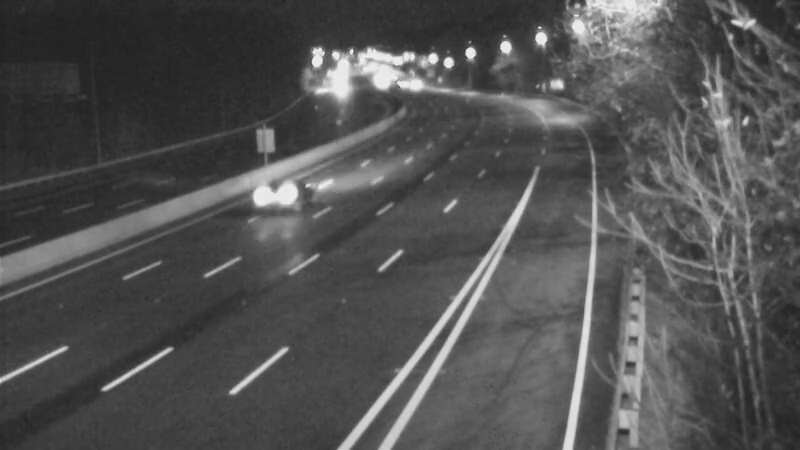vehicle: (257, 153, 337, 233), (390, 62, 440, 112)
